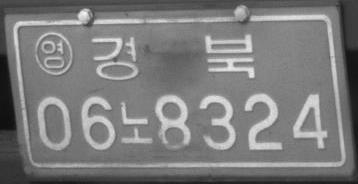0: (37, 94, 72, 151)
2: (244, 92, 283, 151)
3: (198, 94, 236, 151)
4: (292, 93, 327, 149)
6: (80, 95, 116, 151)
8: (154, 93, 192, 150)
경북_D: (90, 33, 255, 80)
노: (119, 100, 153, 144)
영: (34, 31, 74, 77)
